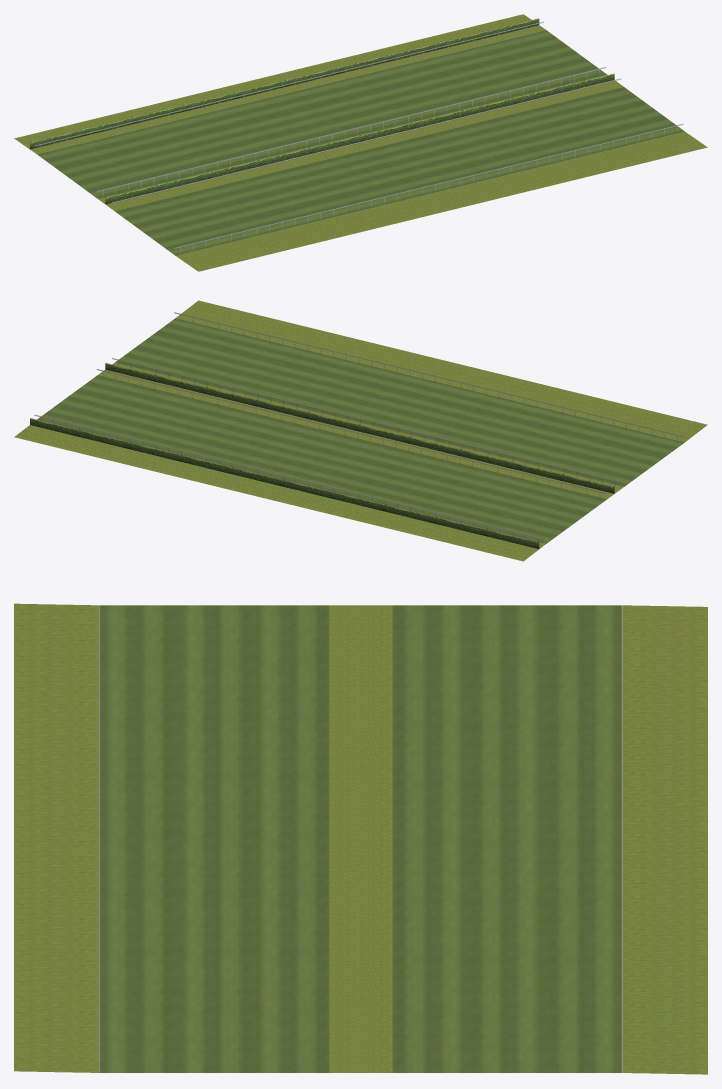
File: road_nograss.gltf
3 views of the same model, one above another, from view 1: azimuth 30°, elevation 25°; view 2: azimuth 150°, elevation 25°; view 3: azimuth 270°, elevation 25° (orthographic). The views are drawn at different scales.
Visible parts, largest first — view 1: outer_track.001; view 2: outer_track.001; view 3: outer_track.001.
Part boxes in pixels (x1=…): outer_track.001: x1=14, y1=14, x2=707, y2=271; outer_track.001: x1=14, y1=300, x2=707, y2=561; outer_track.001: x1=14, y1=603, x2=707, y2=1074.
Size of the model in its own units: 120 by 2.02 by 75.27.
Materials: 1 (1 with a texture image).
